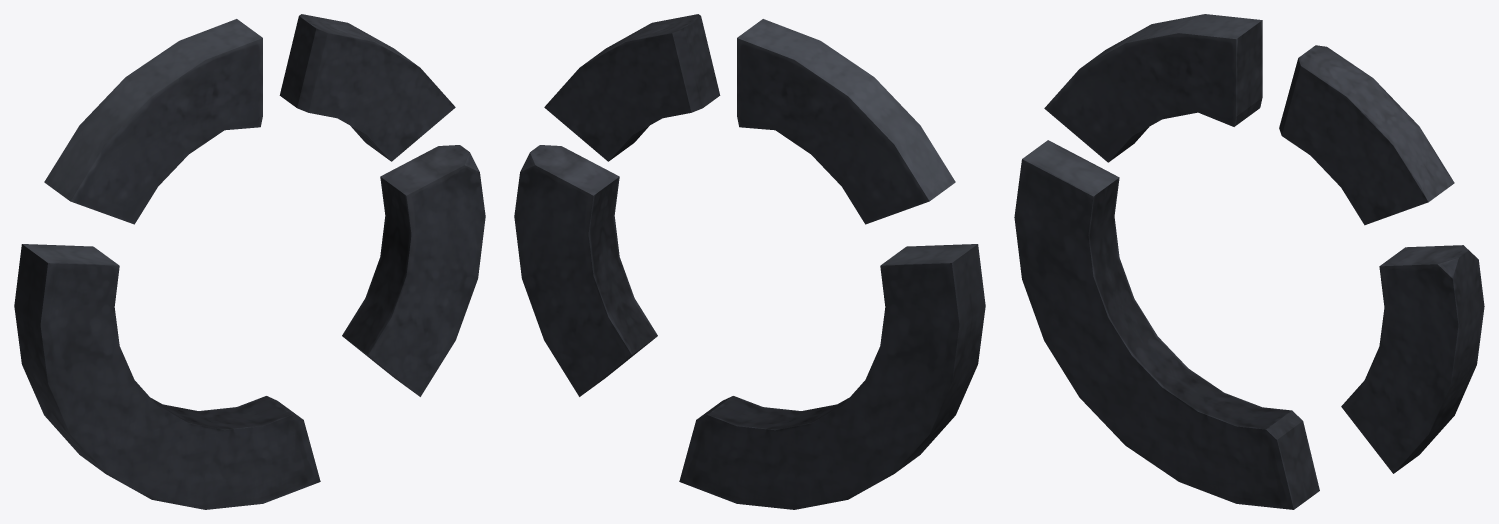
Rendered from new_altar(circle)(1007).FBX.
3 views of the same model, side by side, from view 1: azimuth 30°, elevation 25°; view 2: azimuth 150°, elevation 25°; view 3: azimuth 330°, elevation 25° (orthographic).
Parts seen in each view (by area): view 1: new_altar(circle)(1007); view 2: new_altar(circle)(1007); view 3: new_altar(circle)(1007).
Part boxes in pixels (x1,y1,x2,y2): new_altar(circle)(1007): (14, 14, 485, 509); new_altar(circle)(1007): (514, 14, 985, 509); new_altar(circle)(1007): (1014, 14, 1484, 509).
Size of the model in its own units: 240 by 240 by 24.47.
Materials: 1 (1 with a texture image).
